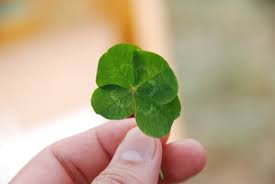4-clover: (94, 44, 181, 135)
